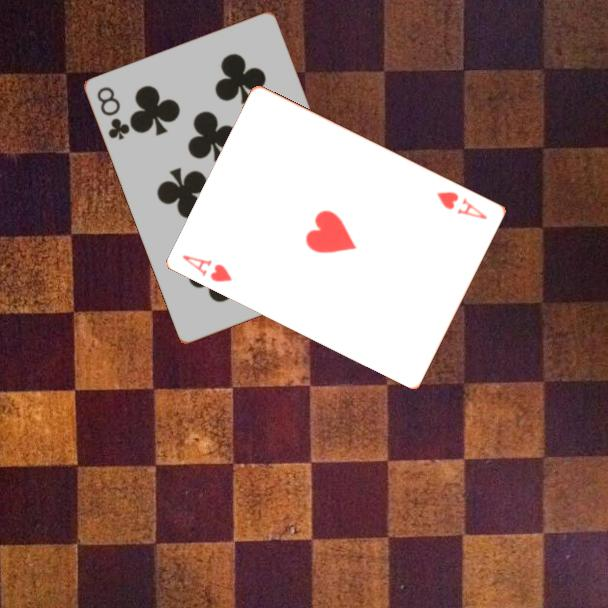c08: (94, 83, 133, 143)
h01: (433, 188, 491, 222), (179, 251, 236, 285)
